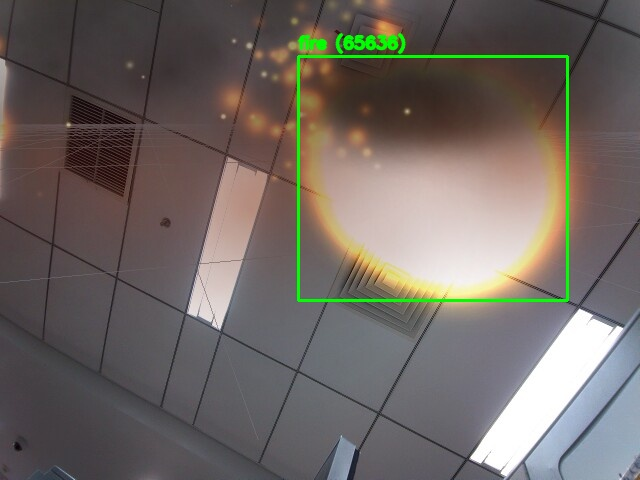fire: (298, 56, 567, 300)
